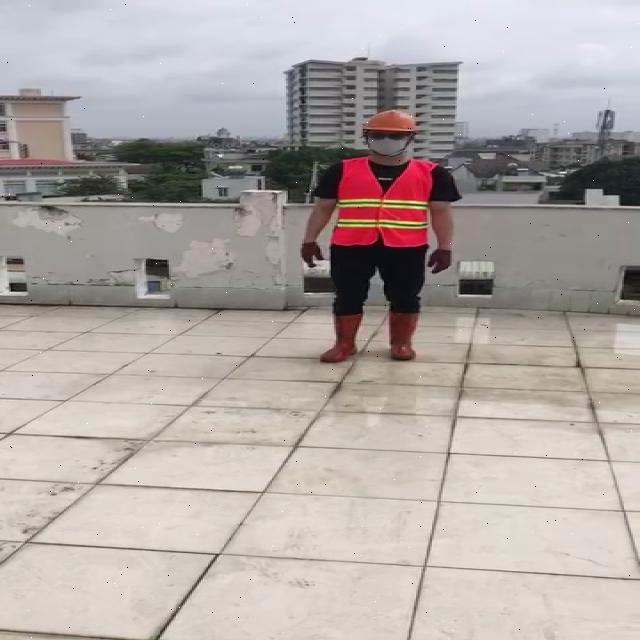Hard_hat: (358, 108, 420, 142)
Vest: (331, 158, 436, 253)
